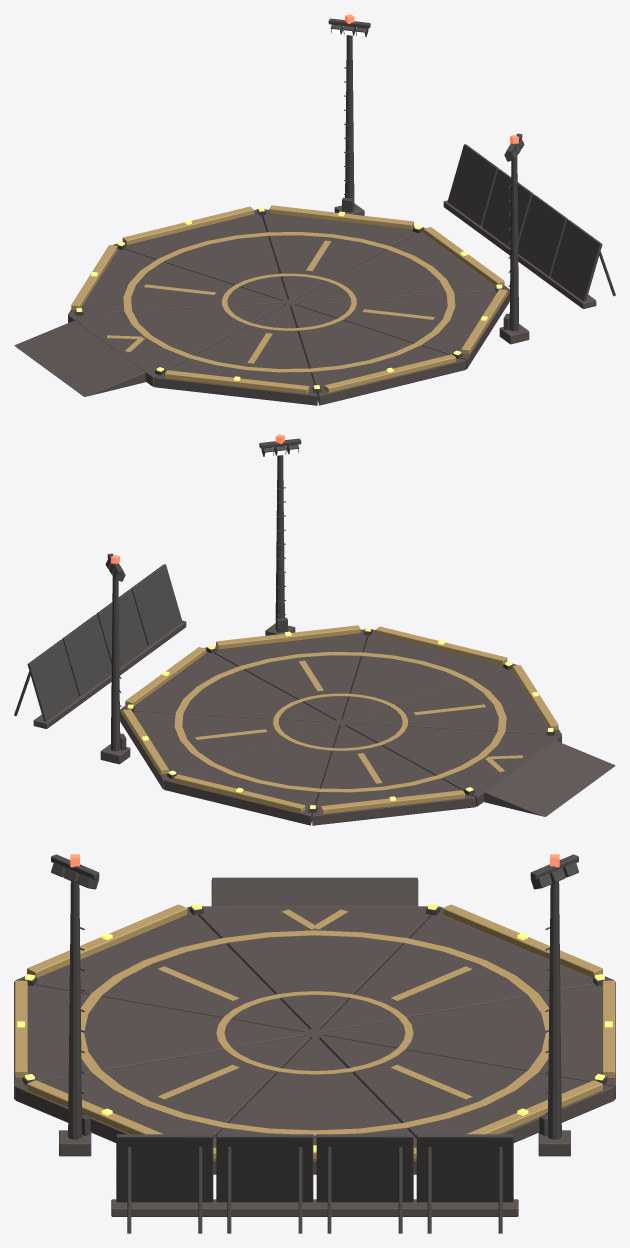
Rendered from pad.glb.
The picture shows the model from 3 angles, top to bottom: view 1: azimuth 30°, elevation 25°; view 2: azimuth 150°, elevation 25°; view 3: azimuth 270°, elevation 25°; orthographic projection. The views are drawn at different scales.
Visible parts, largest first — view 1: pad; view 2: pad; view 3: pad.
Part boxes in pixels (<box>): pad: <box>14,14,615,405</box>; pad: <box>14,434,615,825</box>; pad: <box>14,854,615,1233</box>.
Size of the model in its own units: 26.16 by 10.03 by 18.63.
